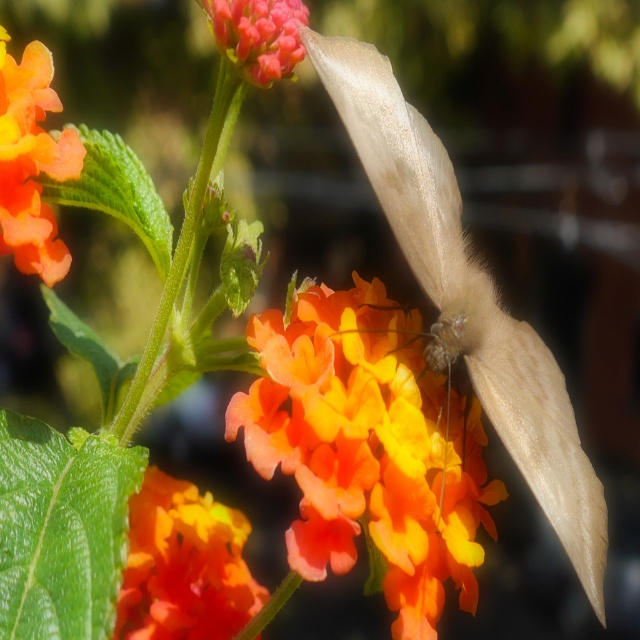Butterfly: (298, 24, 608, 629)
